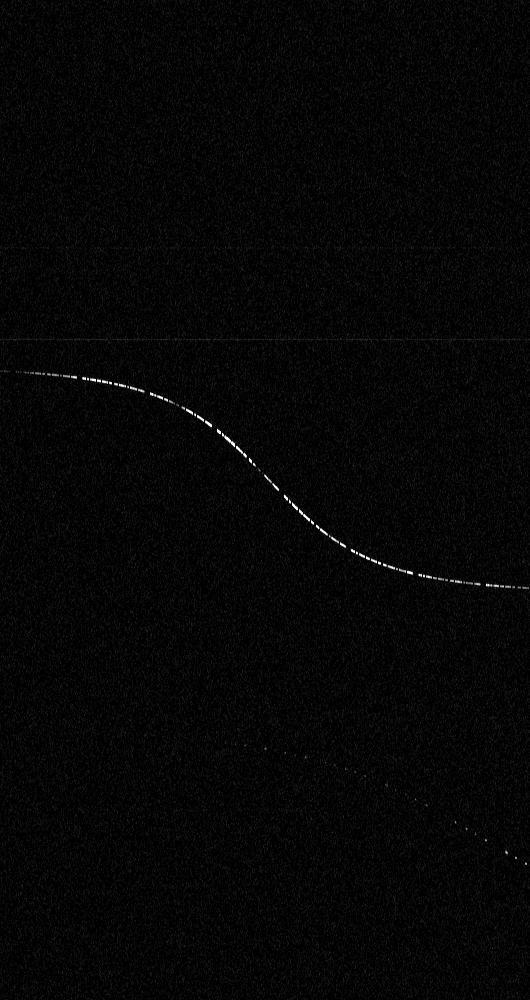signal: (0, 0, 529, 999)
